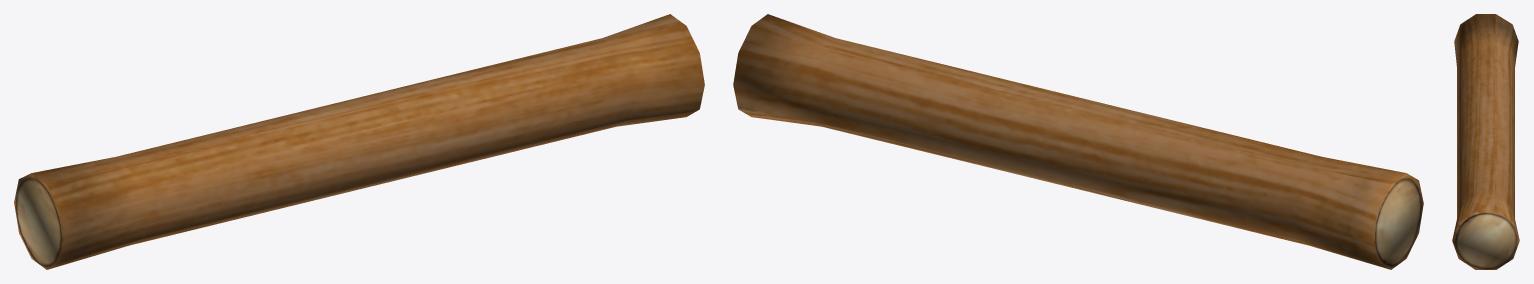
The model's file is pole.fbx.
3 views of the same model, side by side, from view 1: azimuth 30°, elevation 25°; view 2: azimuth 150°, elevation 25°; view 3: azimuth 270°, elevation 25° (orthographic). The views are drawn at different scales.
Parts seen in each view (by area): view 1: pole; view 2: pole; view 3: pole.
Boxes of the visible parts, left/top/right/bottom form: pole: left=14, top=14, right=704, bottom=269; pole: left=733, top=14, right=1423, bottom=269; pole: left=1452, top=14, right=1519, bottom=269.
Bounding box in the file's own units: 0.919 × 0.1252 × 0.1317.
